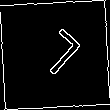L_SW: (27, 26, 83, 84)
